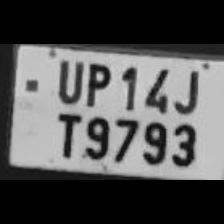1: (114, 60, 140, 110)
3: (168, 119, 198, 170)
4: (140, 62, 172, 114)
7: (107, 114, 136, 162)
9: (80, 110, 110, 160), (138, 117, 168, 165)
J: (171, 64, 201, 112)
P: (82, 59, 112, 107)
T: (48, 108, 80, 158)
U: (52, 55, 82, 103)
